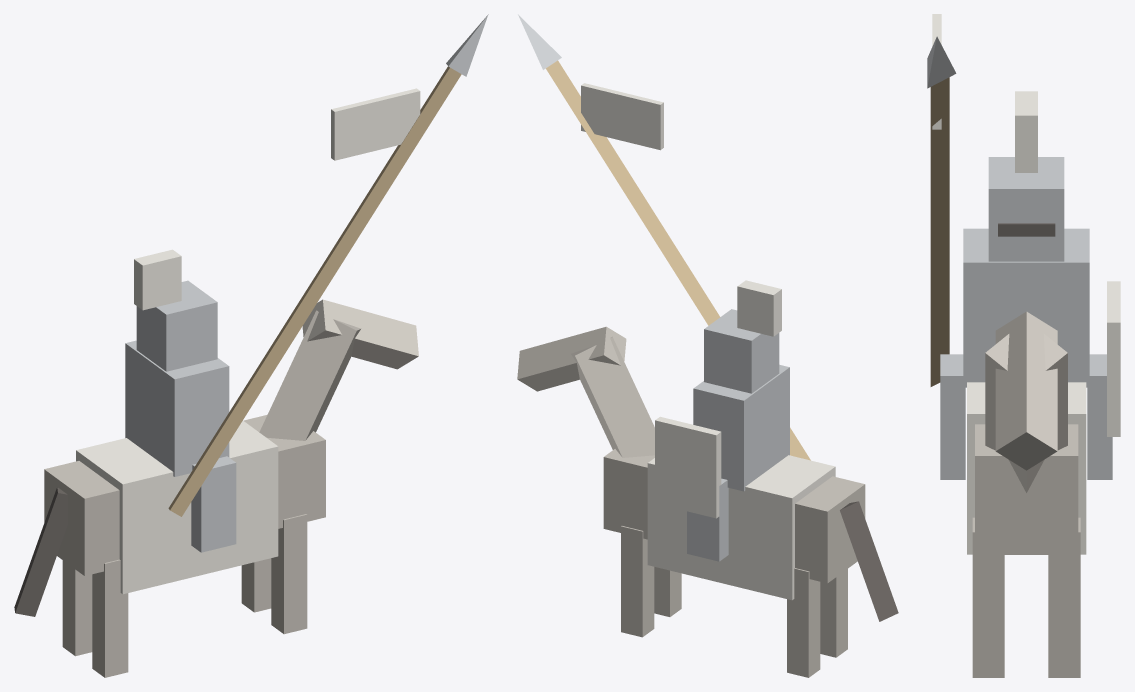
The model's file is formation_flank.glb.
3 views of the same model, side by side, from view 1: azimuth 30°, elevation 25°; view 2: azimuth 150°, elevation 25°; view 3: azimuth 270°, elevation 25° (orthographic). The views are drawn at different scales.
Visible parts, largest first — view 1: medieval_formation_flank; view 2: medieval_formation_flank; view 3: medieval_formation_flank.
Boxes of the visible parts, x1,y1,x2,y2 form: medieval_formation_flank: (14,14,488,677); medieval_formation_flank: (517,14,898,677); medieval_formation_flank: (927,14,1120,677).
Bounding box in the file's own units: 0.7916 × 0.9995 × 0.2349.
